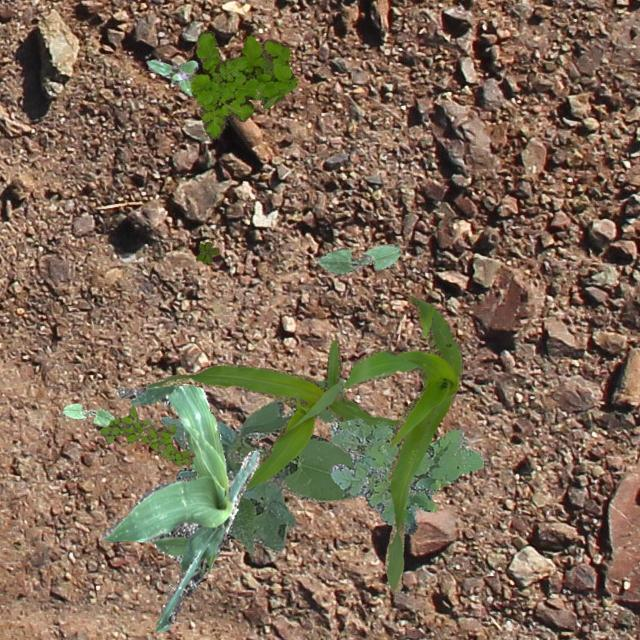crop: (102, 383, 260, 630), (147, 338, 397, 488), (342, 294, 462, 590), (160, 377, 360, 552), (316, 242, 398, 274), (62, 402, 114, 424)
weed: (328, 418, 482, 534), (188, 29, 296, 138), (100, 404, 194, 466), (146, 58, 197, 94), (195, 240, 218, 262)
